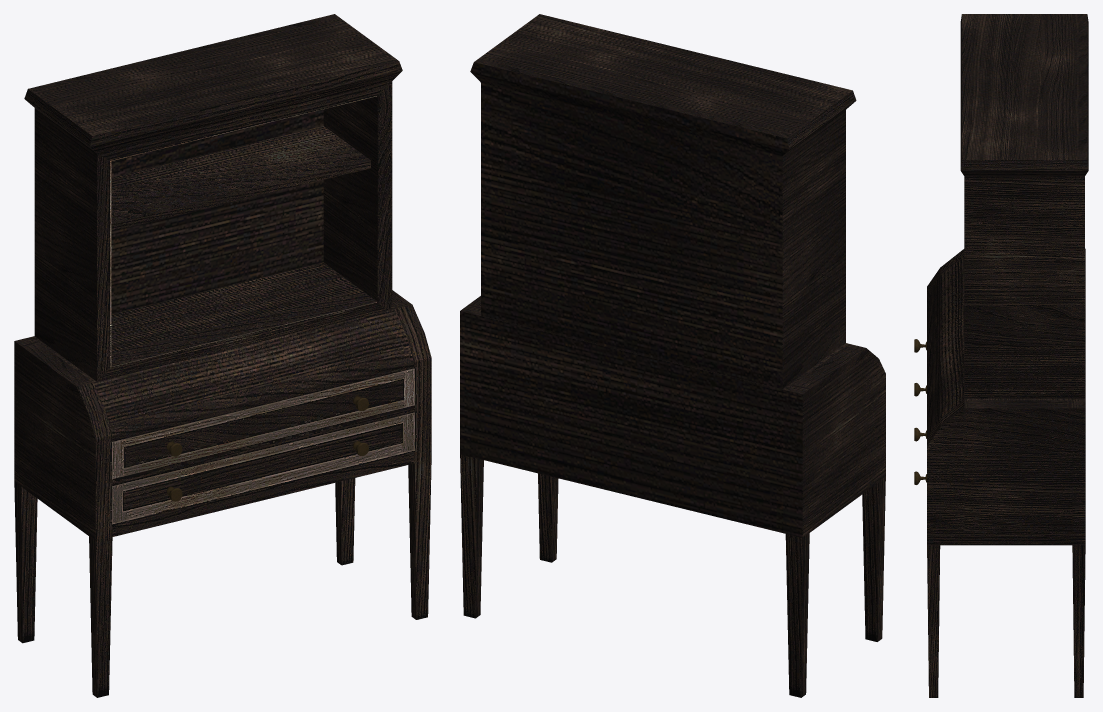
The model's file is closet_nice.dae.
3 renders of one model, left to right at view 1: azimuth 30°, elevation 25°; view 2: azimuth 150°, elevation 25°; view 3: azimuth 270°, elevation 25°, orthographic. The views are drawn at different scales.
Parts seen in each view (by area): view 1: Plane_003, Plane_005, Plane_006; view 2: Plane_003; view 3: Plane_003.
Part boxes in pixels (<box>): Plane_003: <box>14,14,431,697</box>; Plane_005: <box>112,368,414,478</box>; Plane_006: <box>112,413,414,522</box>; Plane_003: <box>460,14,885,697</box>; Plane_003: <box>927,14,1088,697</box>.
Size of the model in its own units: 1.44 by 0.6644 by 2.24.
1 material, 1 textured.
